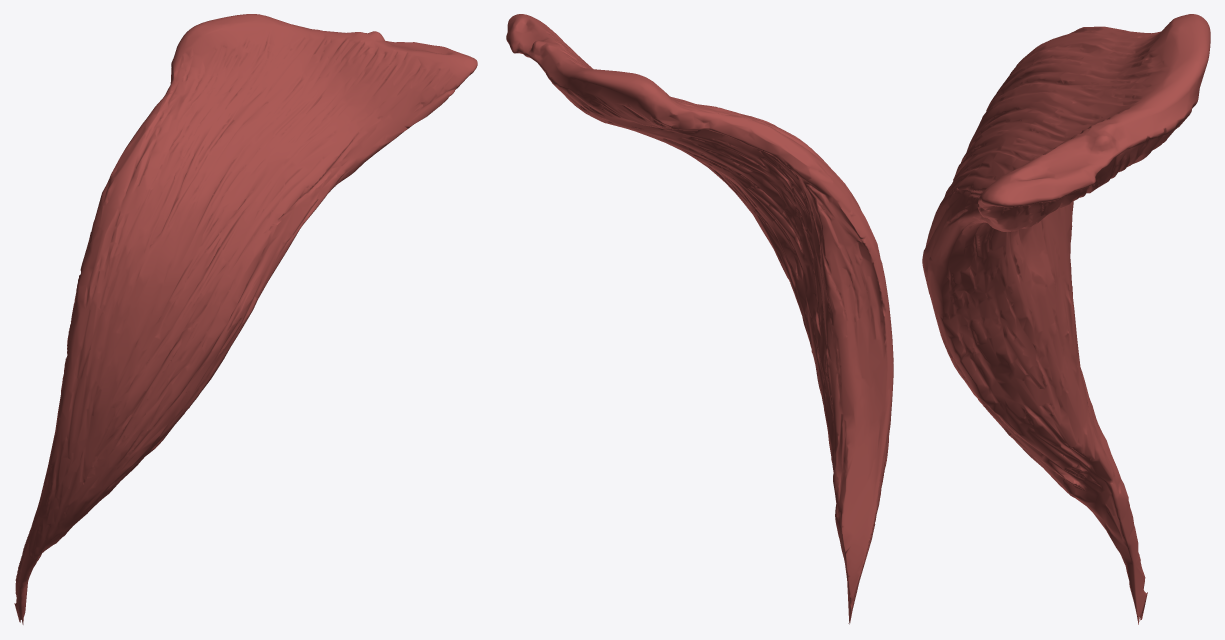
Rendered from FMA34680.glb.
3 renders of one model, left to right at view 1: azimuth 30°, elevation 25°; view 2: azimuth 150°, elevation 25°; view 3: azimuth 270°, elevation 25°, orthographic. The views are drawn at different scales.
Visible parts, largest first — view 1: FMA34680; view 2: FMA34680; view 3: FMA34680.
Part boxes in pixels (x1,y1,x2,y2): FMA34680: [14, 14, 477, 624]; FMA34680: [506, 14, 893, 624]; FMA34680: [922, 14, 1210, 624].
Bounding box in the file's own units: 0.1222 × 0.1513 × 0.0532.
